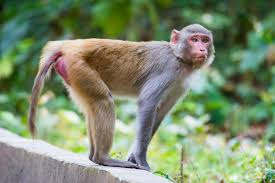monkey: (25, 17, 234, 157)
